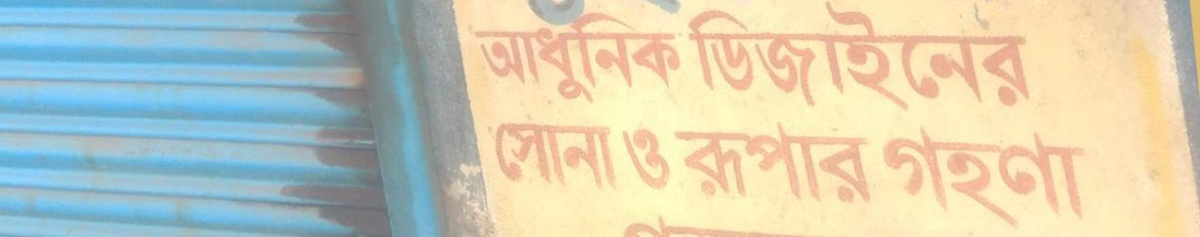text: (689, 2, 704, 118), (705, 2, 720, 118), (721, 2, 736, 118), (737, 2, 752, 118), (753, 2, 768, 118), (769, 2, 784, 118), (785, 2, 800, 118), (801, 2, 816, 118), (817, 2, 832, 118), (833, 2, 848, 118), (849, 2, 864, 118), (865, 2, 880, 118), (881, 2, 896, 118), (897, 2, 912, 118), (913, 2, 928, 118), (929, 2, 944, 118), (945, 2, 960, 118), (961, 2, 976, 118), (977, 2, 992, 118), (993, 2, 1008, 118), (1009, 2, 1024, 118), (673, 8, 689, 108), (881, 126, 896, 229), (897, 126, 912, 229), (913, 126, 928, 229), (929, 126, 944, 229), (945, 126, 960, 229), (961, 126, 976, 229), (977, 126, 992, 229), (993, 126, 1008, 229), (1009, 126, 1024, 229), (1025, 126, 1040, 229), (1041, 126, 1056, 229), (1057, 126, 1072, 229), (1073, 126, 1088, 229), (481, 8, 496, 108), (497, 8, 512, 108), (513, 8, 528, 108), (529, 8, 544, 108), (545, 8, 560, 108), (561, 8, 576, 108), (577, 8, 592, 108), (593, 8, 608, 108), (609, 8, 624, 108), (625, 8, 640, 108), (641, 8, 656, 108), (657, 8, 672, 108), (673, 117, 688, 211), (689, 117, 704, 211), (705, 117, 720, 211), (721, 117, 736, 211), (737, 117, 752, 211), (753, 117, 768, 211), (769, 117, 784, 211), (785, 117, 800, 211), (801, 117, 816, 211), (817, 117, 832, 211), (833, 117, 848, 211), (849, 117, 864, 211), (865, 117, 880, 211), (676, 2, 688, 118), (609, 121, 625, 195), (497, 121, 512, 195), (513, 121, 528, 195), (529, 121, 544, 195), (545, 121, 560, 195), (561, 121, 576, 195), (577, 121, 592, 195), (593, 121, 608, 195), (625, 124, 640, 194), (641, 124, 656, 194), (657, 124, 672, 194), (471, 8, 480, 108), (1025, 2, 1031, 118), (1089, 126, 1093, 229), (619, 124, 624, 194), (492, 121, 496, 195), (625, 217, 640, 236), (641, 217, 656, 236), (657, 217, 672, 236), (673, 217, 688, 236), (689, 217, 704, 236), (705, 217, 720, 236), (721, 217, 736, 236), (737, 217, 752, 236), (753, 217, 768, 236), (769, 217, 784, 236), (785, 217, 800, 236), (801, 217, 815, 236), (673, 124, 675, 194), (881, 117, 882, 211), (620, 217, 624, 236)
